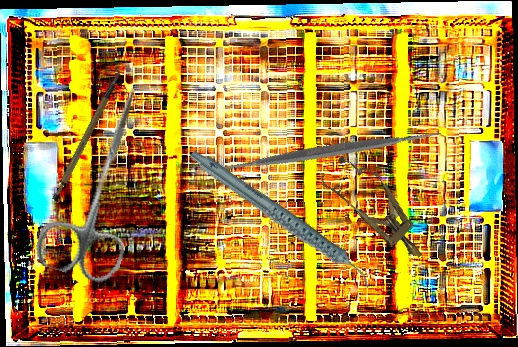Handpiece: (186, 118, 375, 322)
Iris Scissors: (31, 74, 171, 288)
Scalpel Handle: (36, 70, 141, 203)
Spatula Surgical: (206, 29, 451, 274)
Speculum: (315, 146, 439, 273)
